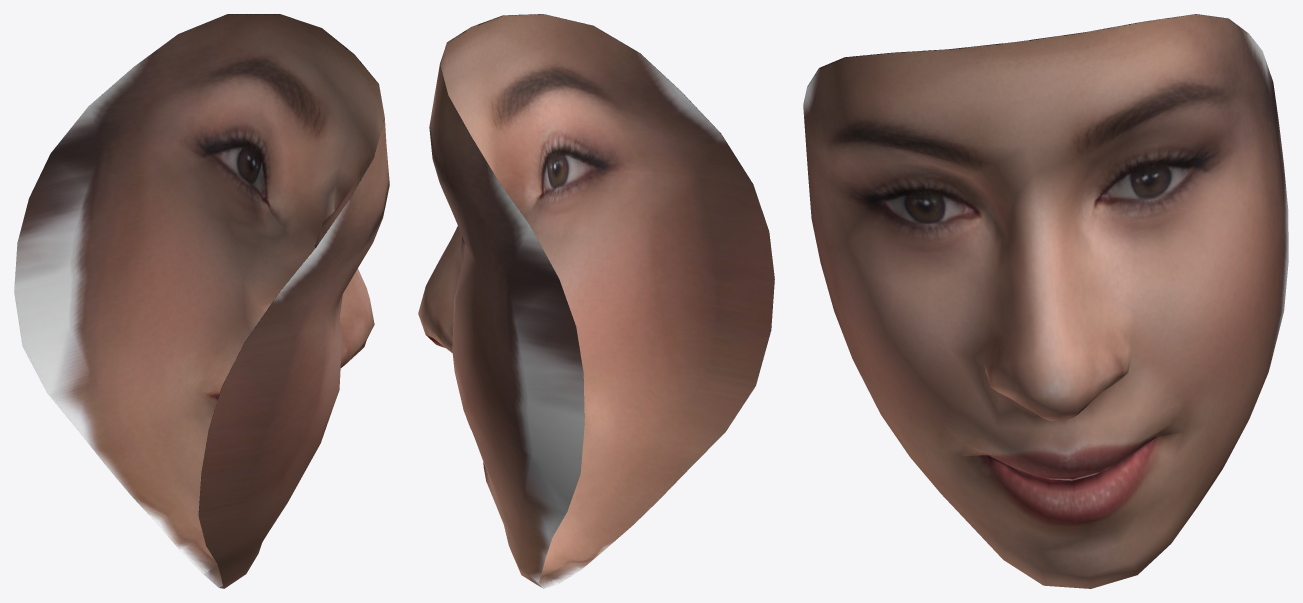
Rendered from instagram_beauty.glb.
3 views of the same model, side by side, from view 1: azimuth 30°, elevation 25°; view 2: azimuth 150°, elevation 25°; view 3: azimuth 270°, elevation 25° (orthographic). The views are drawn at different scales.
Visible parts, largest first — view 1: instagram_beauty; view 2: instagram_beauty; view 3: instagram_beauty.
Boxes of the visible parts, left/top/right/bottom form: instagram_beauty: left=14, top=14, right=389, bottom=588; instagram_beauty: left=418, top=14, right=774, bottom=588; instagram_beauty: left=803, top=14, right=1288, bottom=588.
Bounding box in the file's own units: 0.4447 × 0.8534 × 0.6031.
1 material, 1 textured.
